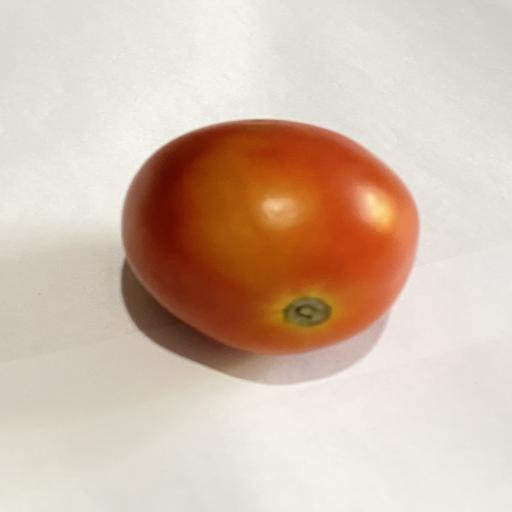ripe: (122, 119, 419, 354)
